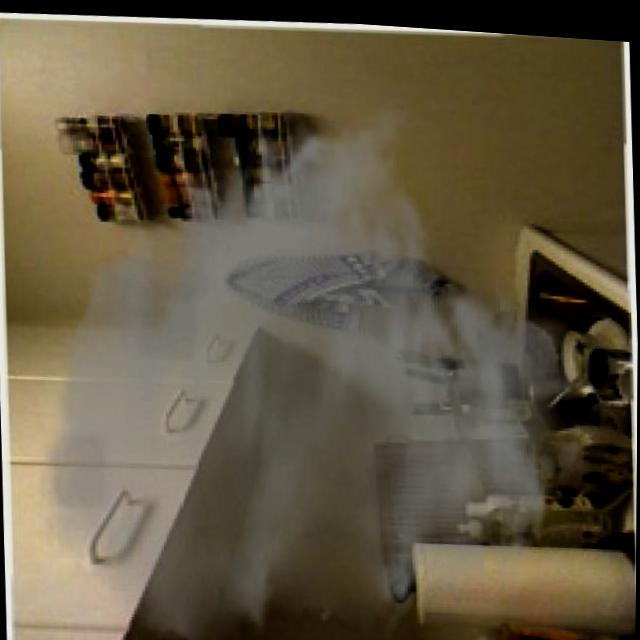Smoke: (23, 83, 596, 640)
